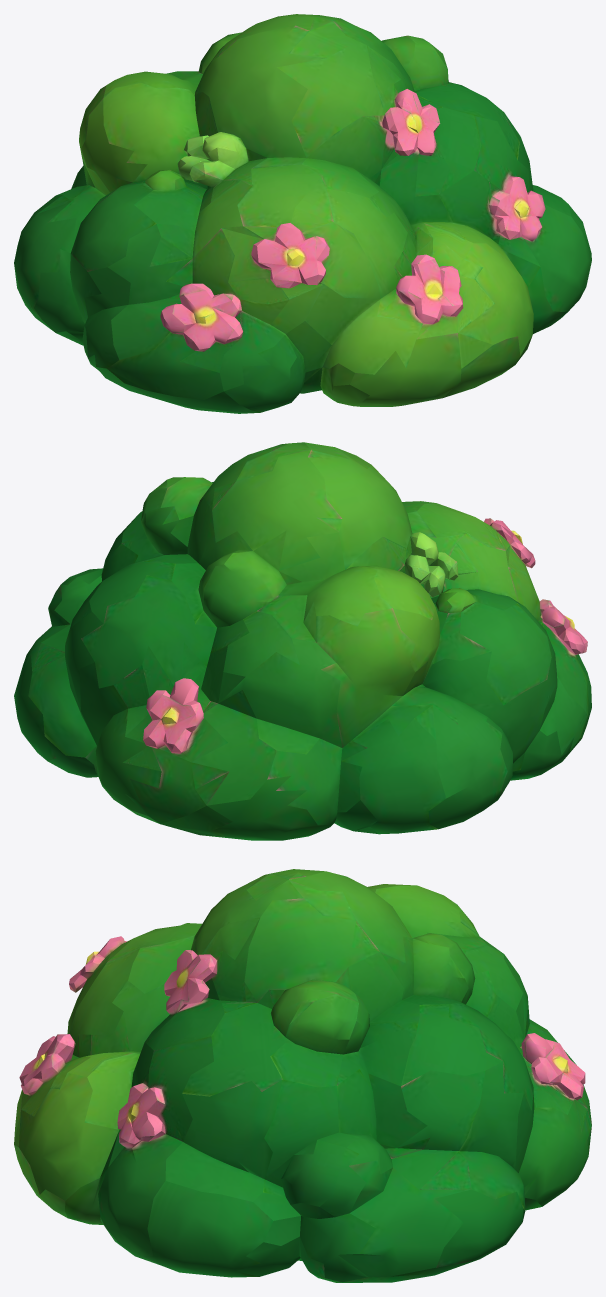
The model's file is skate-busk.glb.
The picture shows the model from 3 angles, top to bottom: view 1: azimuth 30°, elevation 25°; view 2: azimuth 150°, elevation 25°; view 3: azimuth 270°, elevation 25°; orthographic projection. The views are drawn at different scales.
Size of the model in its own units: 1.89 by 1.08 by 1.9.
Materials: 1 (1 with a texture image).
